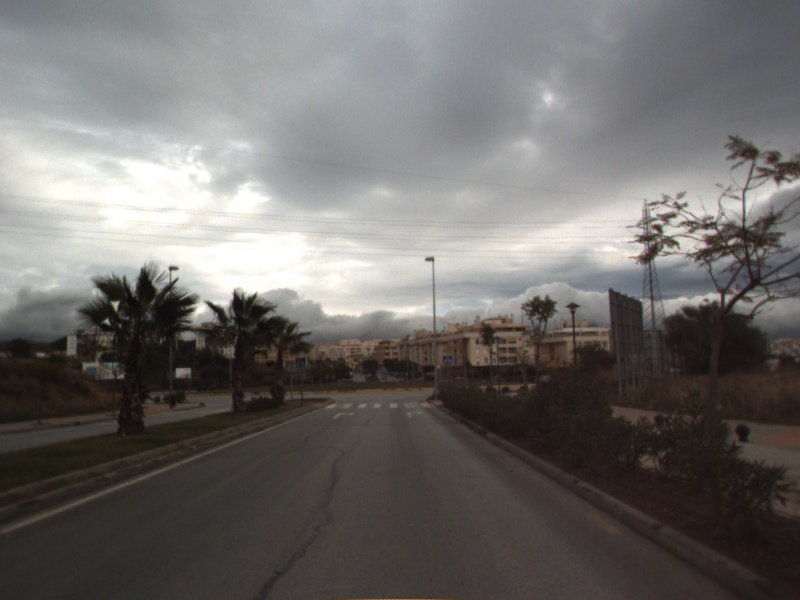RIGHT: (330, 410, 357, 421), (405, 409, 426, 420)
